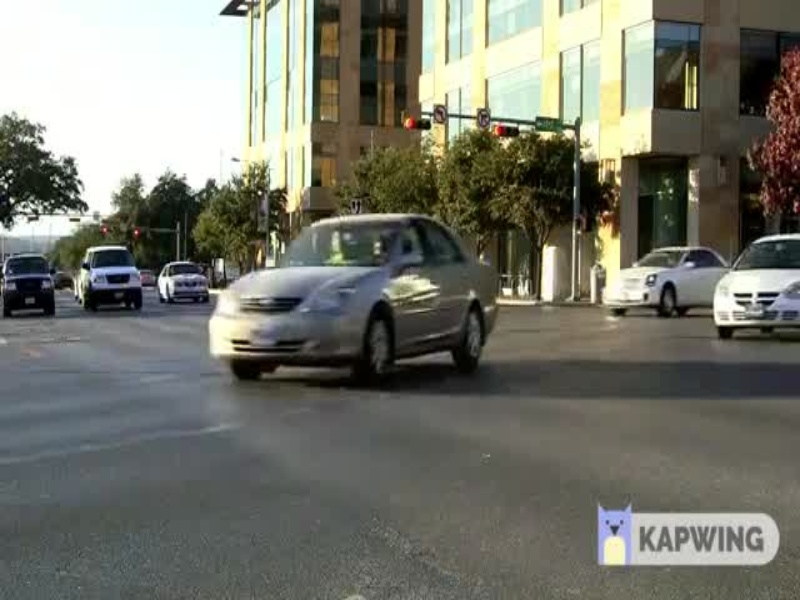car: (206, 201, 508, 393), (593, 240, 728, 319), (711, 231, 800, 344), (77, 244, 145, 321), (1, 250, 59, 319), (154, 256, 210, 300)
